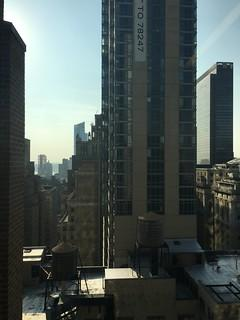building: (98, 1, 202, 271)
